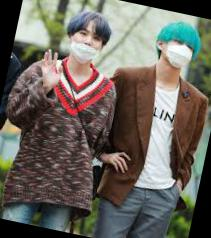mask_weared_incorrect: (74, 27, 102, 61)
with_mask: (165, 37, 195, 66)
